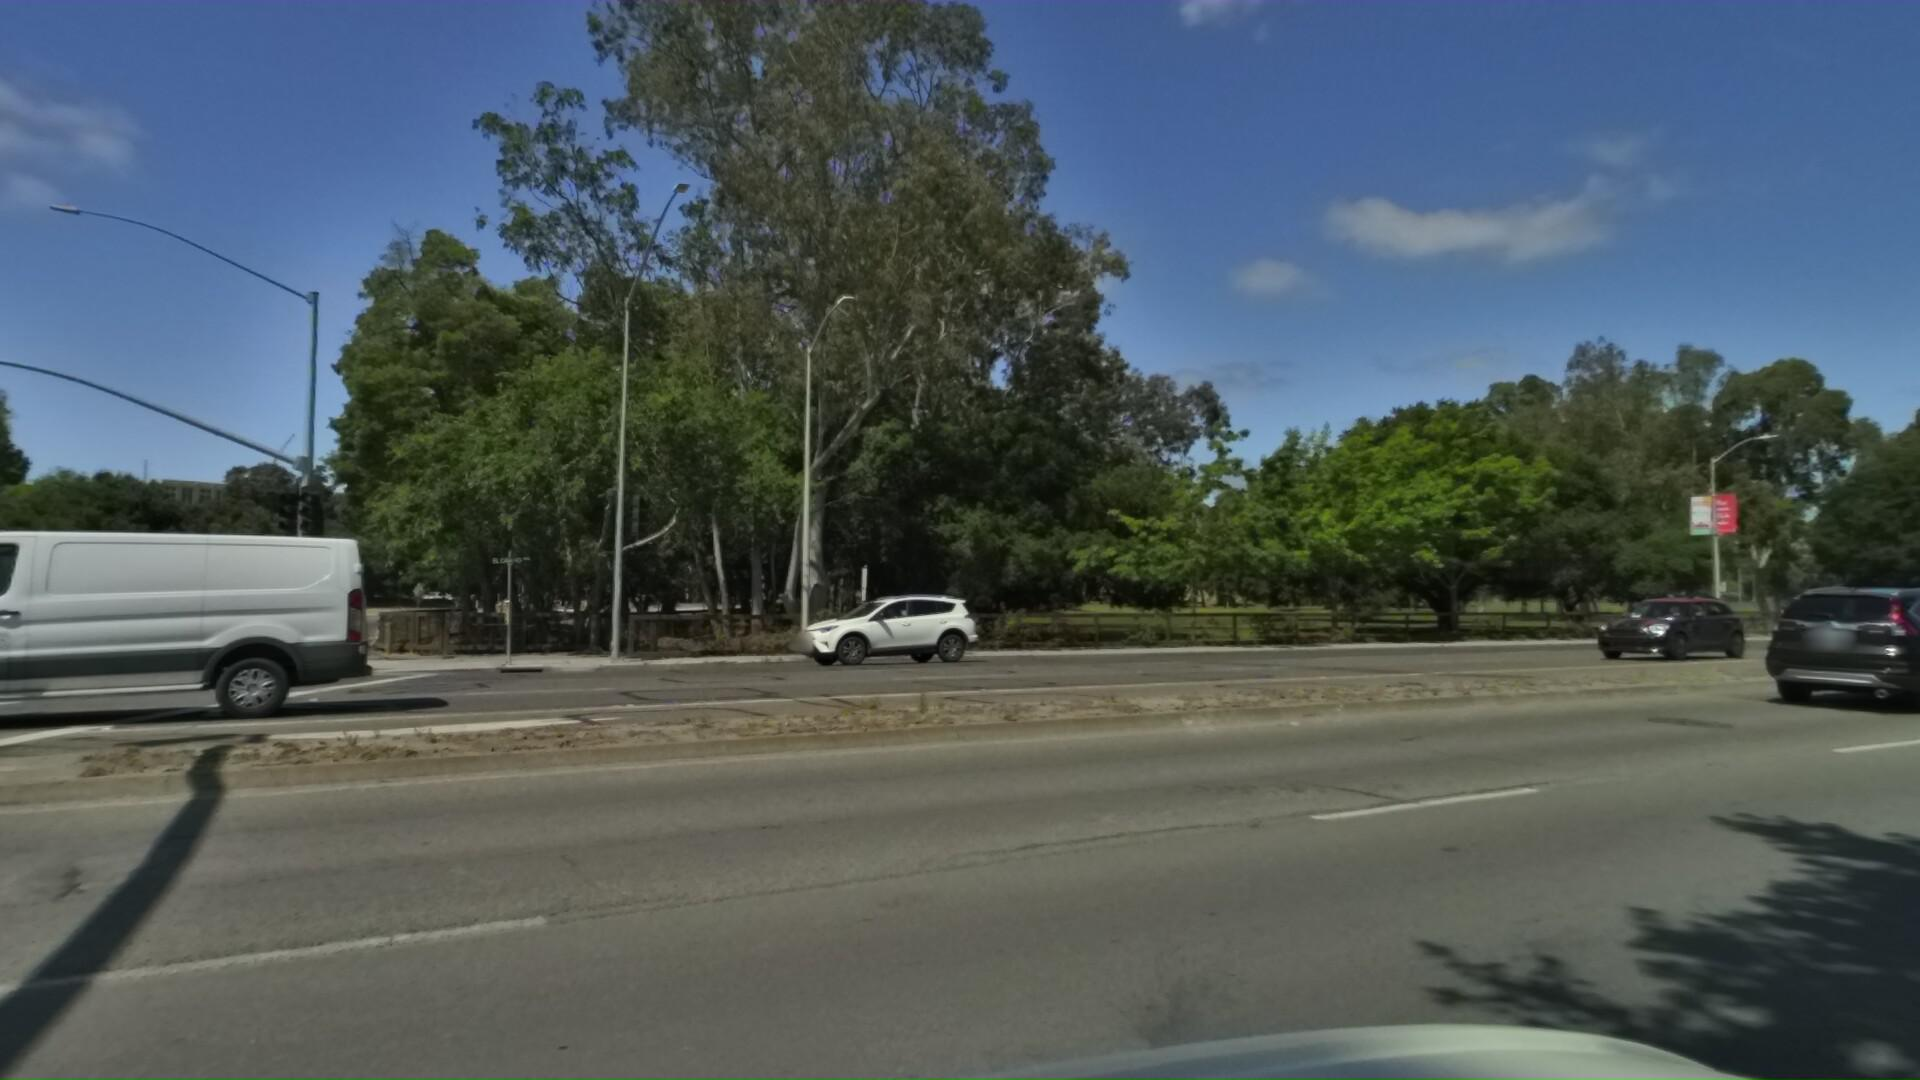car: (0, 495, 303, 746), (1753, 576, 1920, 720), (761, 583, 969, 662), (1553, 570, 1724, 655)
